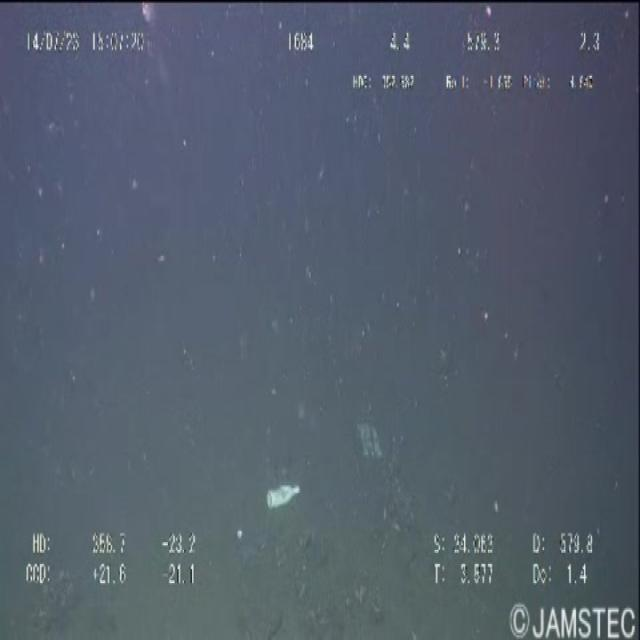Glass: (257, 467, 308, 529)
